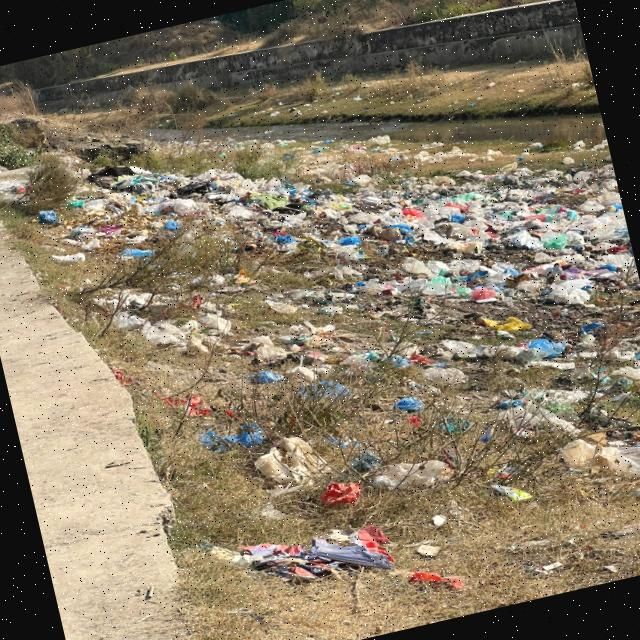garbage: (248, 259, 582, 437), (208, 159, 640, 296), (76, 148, 234, 371), (242, 398, 456, 526), (505, 358, 640, 506)
